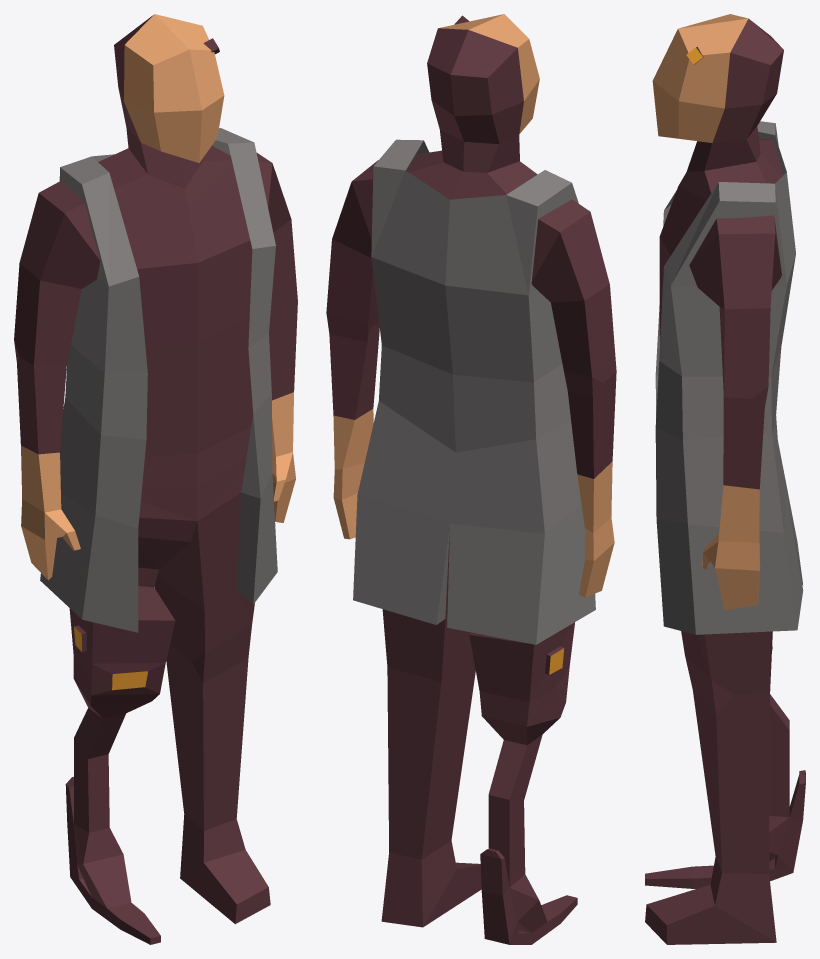
File: man-scifi-prosthetic-leg.fbx
The picture shows the model from 3 angles, left to right: view 1: azimuth 30°, elevation 25°; view 2: azimuth 150°, elevation 25°; view 3: azimuth 270°, elevation 25°; orthographic projection. The views are drawn at different scales.
Parts seen in each view (by area): view 1: man-scifi-prosthetic-leg; view 2: man-scifi-prosthetic-leg; view 3: man-scifi-prosthetic-leg.
Part boxes in pixels (left/top/right/bottom): man-scifi-prosthetic-leg: left=14, top=14, right=297, bottom=944; man-scifi-prosthetic-leg: left=326, top=14, right=616, bottom=944; man-scifi-prosthetic-leg: left=645, top=14, right=805, bottom=944.
Bounding box in the file's own units: 0.5652 × 1.79 × 0.2937.
